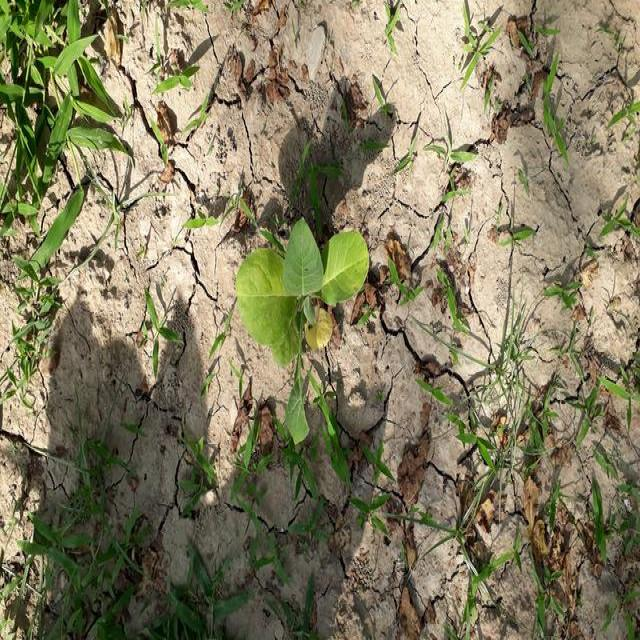crop: (234, 211, 378, 458)
